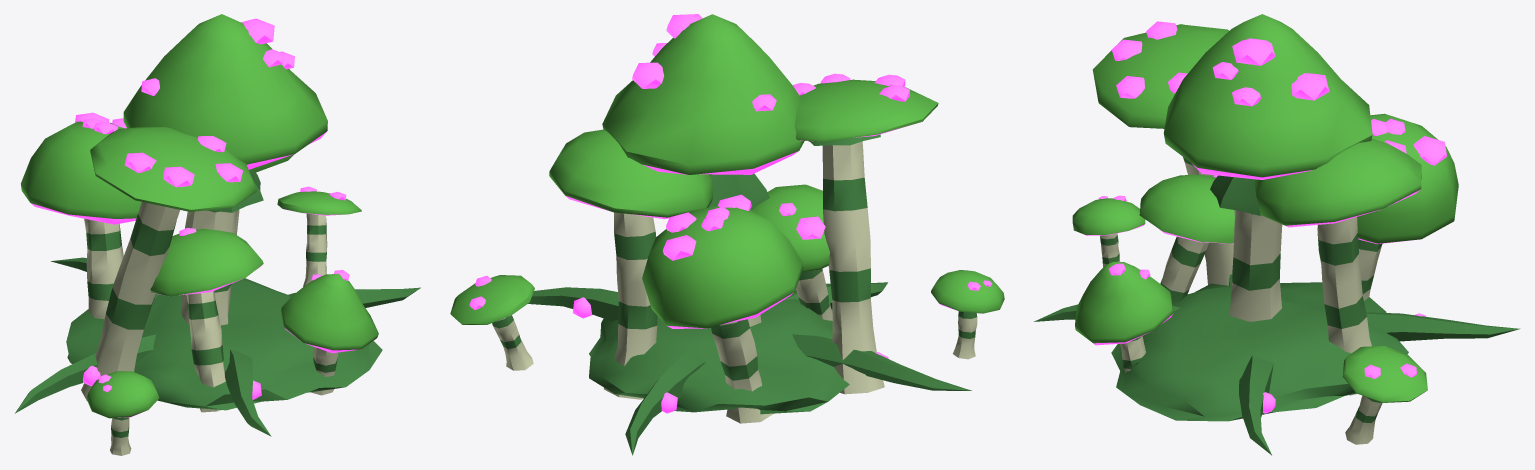
Rendered from mushroom_toxic_b.glb.
The picture shows the model from 3 angles, left to right: view 1: azimuth 30°, elevation 25°; view 2: azimuth 150°, elevation 25°; view 3: azimuth 270°, elevation 25°; orthographic projection. The views are drawn at different scales.
Visible parts, largest first — view 1: mushroom_toxic_b; view 2: mushroom_toxic_b; view 3: mushroom_toxic_b.
Boxes of the visible parts, x1=… form: mushroom_toxic_b: x1=15, y1=14, x2=420, y2=455; mushroom_toxic_b: x1=450, y1=14, x2=1004, y2=455; mushroom_toxic_b: x1=1034, y1=14, x2=1520, y2=455.
Bounding box in the file's own units: 3.04 × 2.28 × 2.85.
